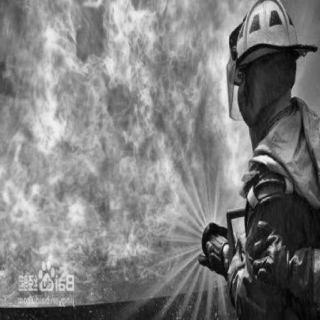Fire: (4, 4, 244, 304)
other: (235, 0, 303, 52)
